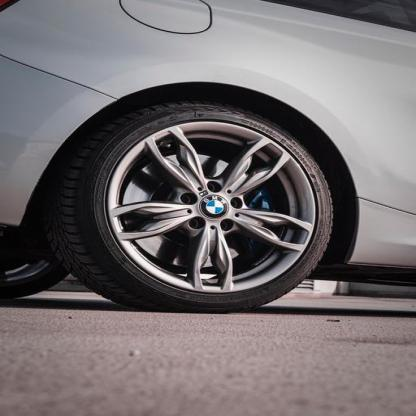Tire: (46, 96, 332, 311)
